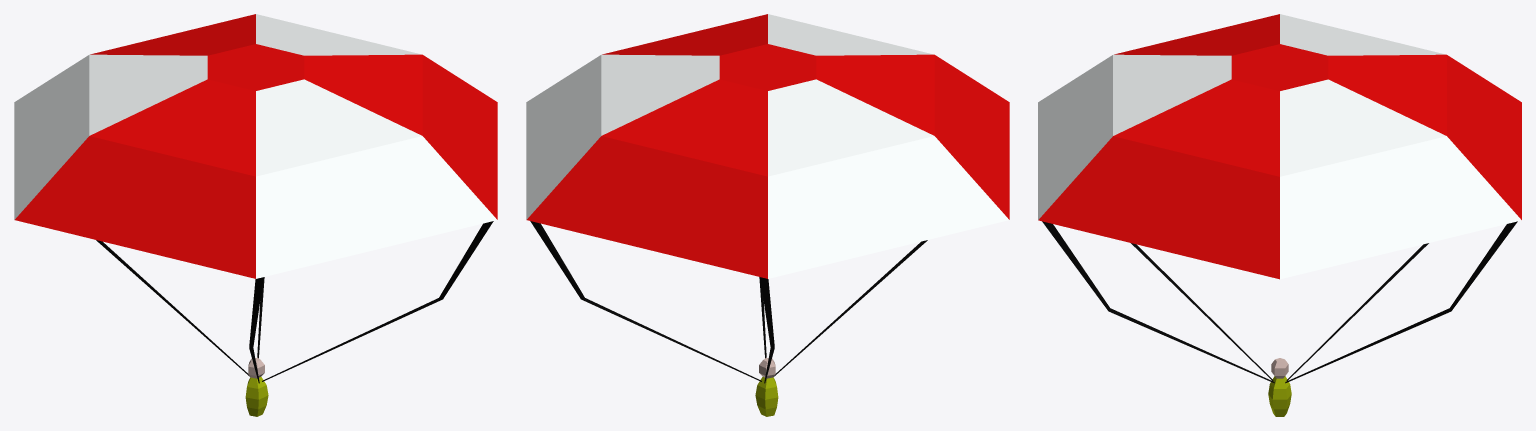
File: Parachute.fbx
3 views of the same model, side by side, from view 1: azimuth 30°, elevation 25°; view 2: azimuth 150°, elevation 25°; view 3: azimuth 270°, elevation 25° (orthographic).
Visible parts, largest first — view 1: Parachute; view 2: Parachute; view 3: Parachute.
Boxes of the visible parts, x1,y1,x2,y2 form: Parachute: (14,14,497,416); Parachute: (526,14,1009,416); Parachute: (1038,14,1521,416).
Size of the model in its own units: 417 by 286 by 362.
